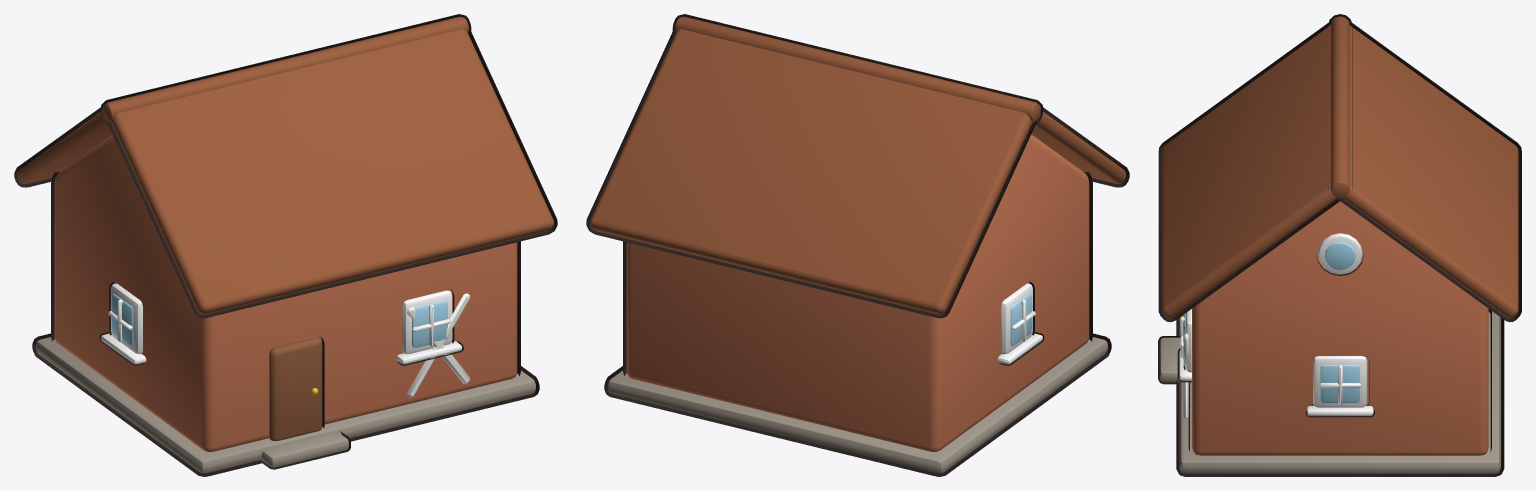
The model's file is Barn.fbx.
The picture shows the model from 3 angles, left to right: view 1: azimuth 30°, elevation 25°; view 2: azimuth 150°, elevation 25°; view 3: azimuth 270°, elevation 25°; orthographic projection. The views are drawn at different scales.
Parts seen in each view (by area): view 1: BL_Barn_RoofBrown, BL_Barn_WallBrick, BL_Barn_StoneDark, BL_Barn_Outline, BL_Barn_Door, BL_Barn_Frame, BL_Barn_Window, BL_Barn_White; view 2: BL_Barn_RoofBrown, BL_Barn_WallBrick, BL_Barn_StoneDark, BL_Barn_Outline, BL_Barn_Frame, BL_Barn_Window; view 3: BL_Barn_RoofBrown, BL_Barn_WallBrick, BL_Barn_StoneDark, BL_Barn_Outline, BL_Barn_Frame, BL_Barn_Window, BL_Barn_White.
Part boxes in pixels (x1,y1,x2,y2): BL_Barn_RoofBrown: (18, 16, 553, 314); BL_Barn_WallBrick: (54, 134, 517, 451); BL_Barn_StoneDark: (36, 337, 535, 473); BL_Barn_Outline: (14, 14, 557, 476); BL_Barn_Door: (269, 338, 322, 440); BL_Barn_Frame: (101, 283, 462, 364); BL_Barn_Window: (112, 294, 447, 347); BL_Barn_White: (407, 293, 470, 397); BL_Barn_RoofBrown: (590, 16, 1125, 314); BL_Barn_WallBrick: (626, 134, 1089, 451); BL_Barn_StoneDark: (608, 337, 1107, 473); BL_Barn_Outline: (586, 14, 1129, 476); BL_Barn_Frame: (997, 283, 1042, 364); BL_Barn_Window: (1010, 294, 1031, 346); BL_Barn_RoofBrown: (1162, 16, 1518, 318); BL_Barn_WallBrick: (1192, 201, 1488, 455); BL_Barn_StoneDark: (1160, 311, 1500, 473); BL_Barn_Outline: (1158, 14, 1521, 476); BL_Barn_Frame: (1179, 233, 1373, 415); BL_Barn_Window: (1183, 242, 1359, 402); BL_Barn_White: (1183, 333, 1188, 419).
Bounding box in the file's own units: 8.1 × 6.81 × 7.37.
